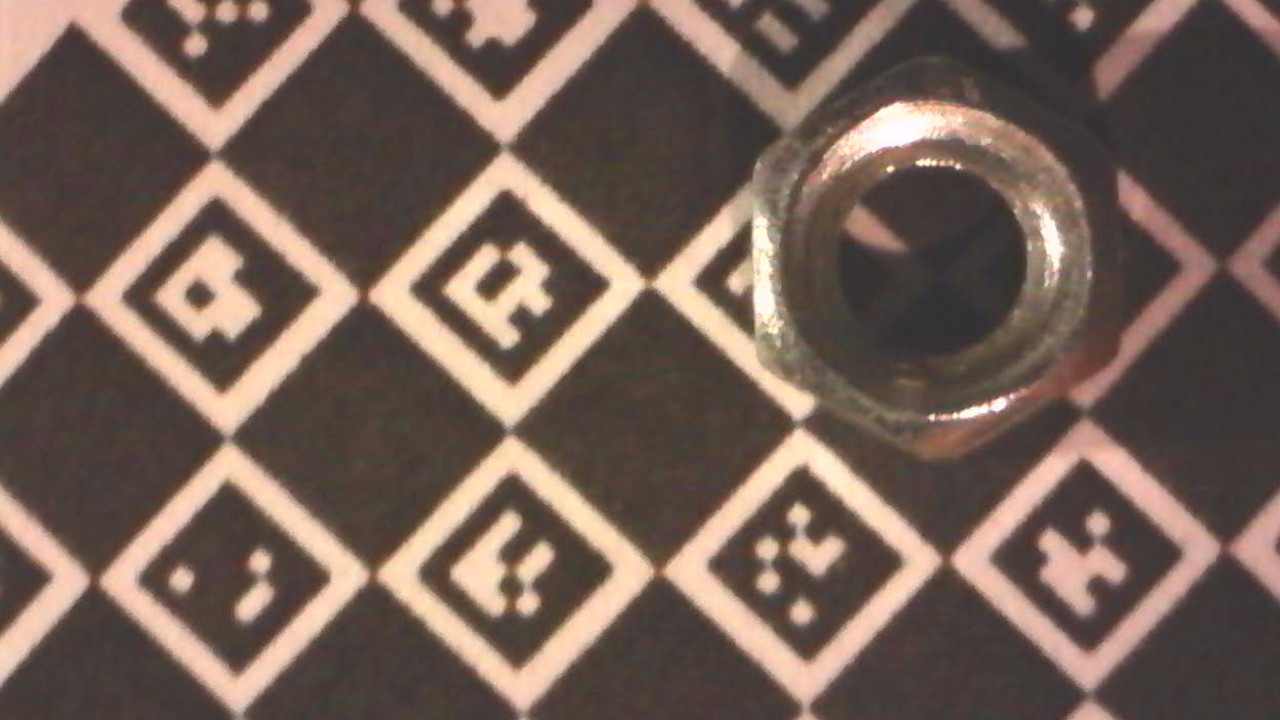Bolt: (753, 48, 1123, 466)
